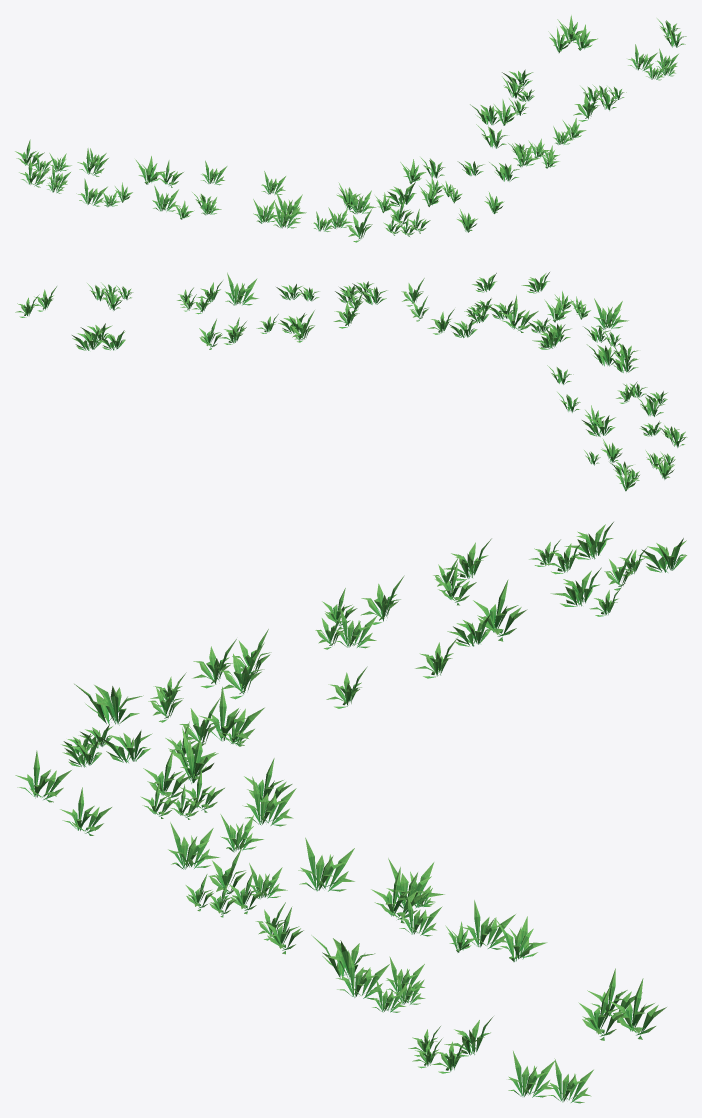
Rendered from Area_13_62.fbx.
3 views of the same model, one above another, from view 1: azimuth 30°, elevation 25°; view 2: azimuth 150°, elevation 25°; view 3: azimuth 270°, elevation 25° (orthographic). The views are drawn at different scales.
Parts seen in each view (by area): view 1: Area_13_62; view 2: Area_13_62; view 3: Area_13_62.
Part boxes in pixels (<box>): Area_13_62: <box>15,15,686,242</box>; Area_13_62: <box>15,272,687,491</box>; Area_13_62: <box>15,522,686,1103</box>.
Size of the model in its own units: 2254 by 93.02 by 1141.
